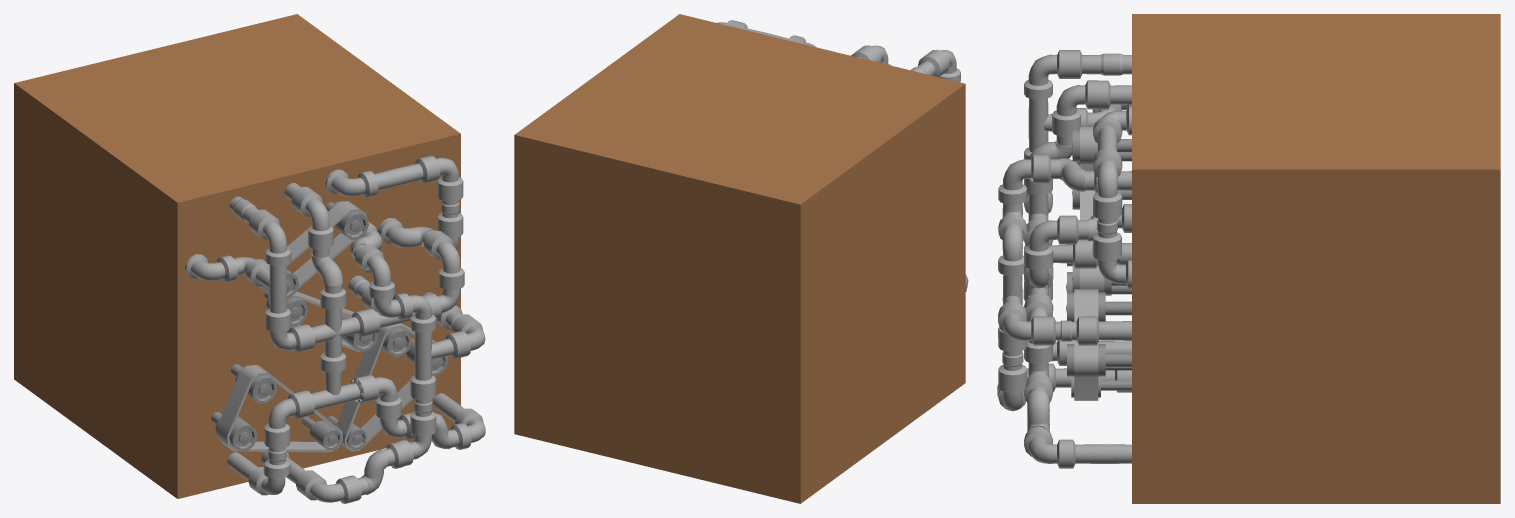
The model's file is gj_wall_002.fbx.
3 renders of one model, left to right at view 1: azimuth 30°, elevation 25°; view 2: azimuth 150°, elevation 25°; view 3: azimuth 270°, elevation 25°, orthographic. The views are drawn at different scales.
Visible parts, largest first — view 1: polySurface1869; view 2: polySurface1869; view 3: polySurface1869.
Boxes of the visible parts, x1,y1,x2,y2 form: polySurface1869: (14, 14, 485, 503); polySurface1869: (514, 14, 968, 503); polySurface1869: (997, 14, 1500, 503).
Bounding box in the file's own units: 0.7 × 0.7 × 0.9559.
